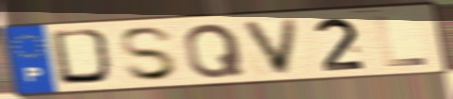2: (313, 16, 367, 73)
D: (48, 27, 120, 88)
L: (373, 14, 430, 69)
Q: (182, 21, 248, 80)
S: (116, 25, 181, 83)
V: (238, 16, 303, 77)
